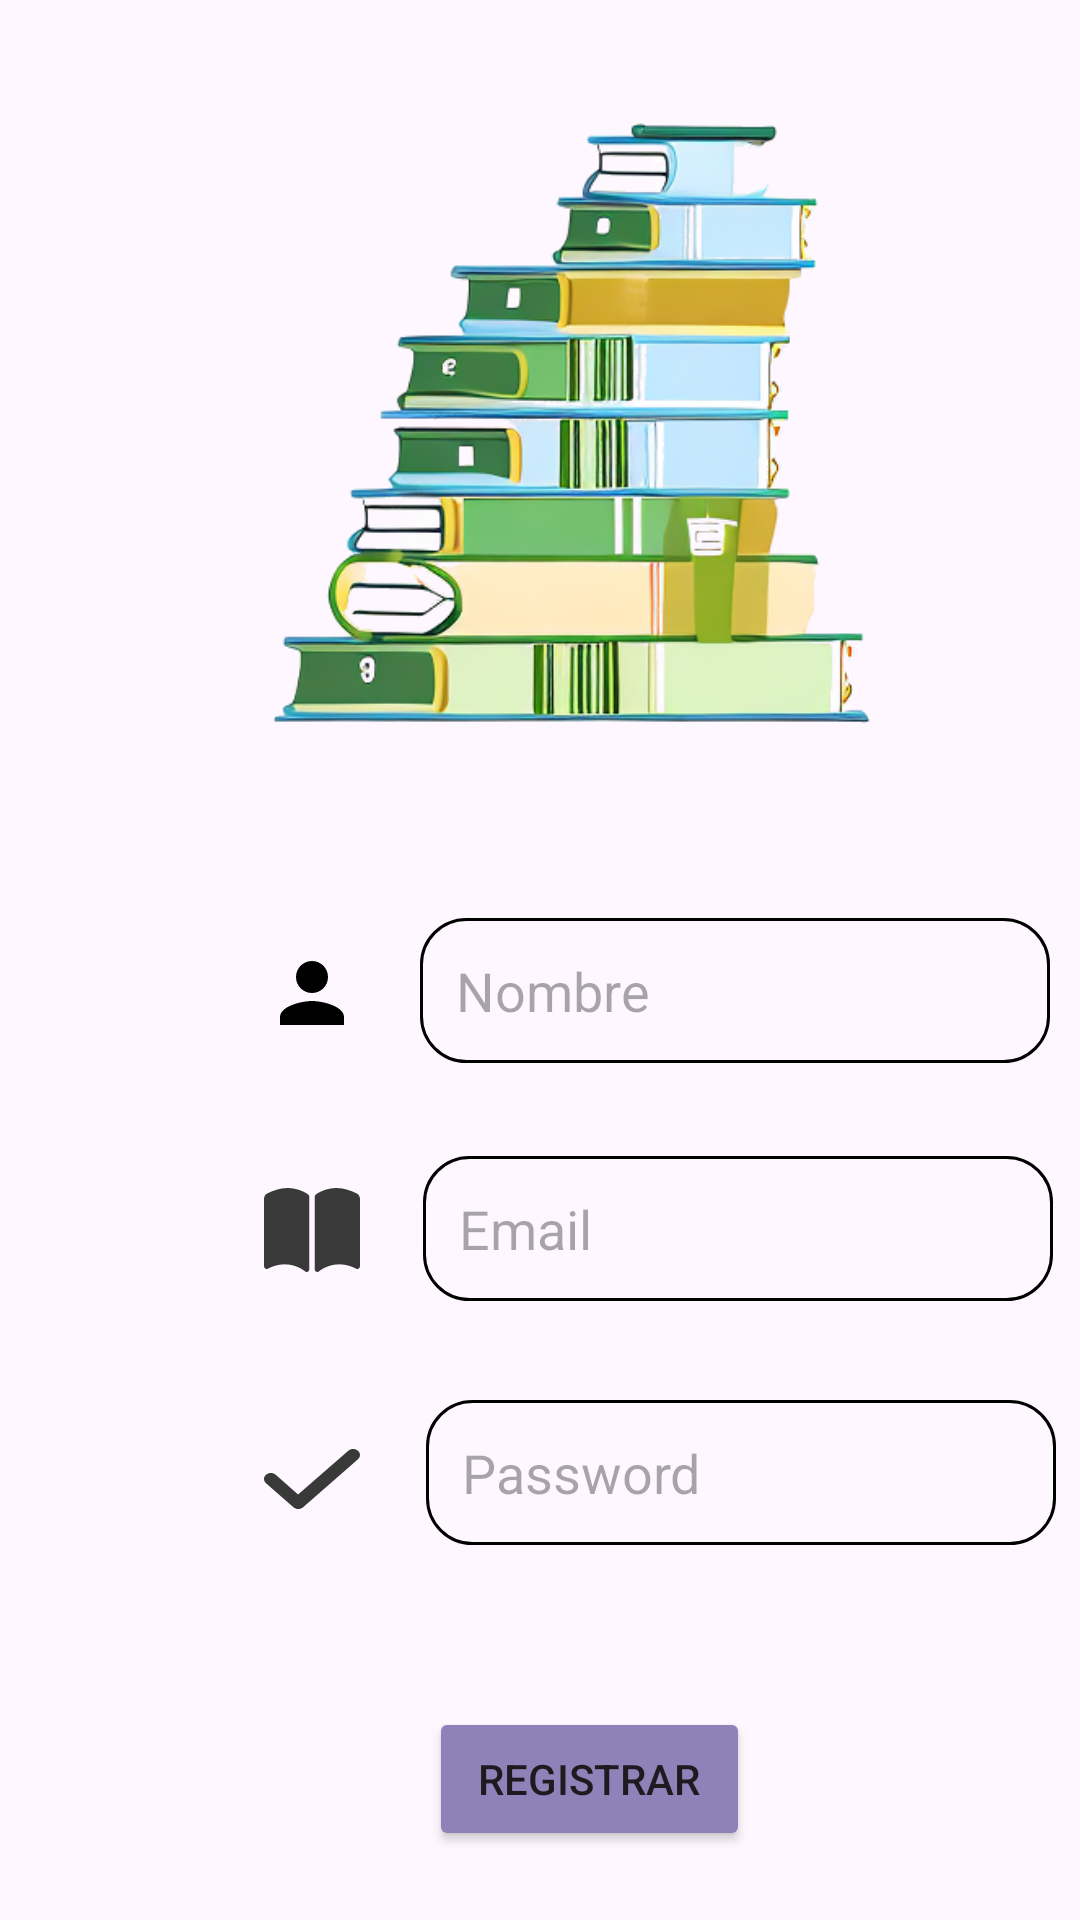

Icons on this 1080×1920 Android screen, each with the point to tap as (x=x, y=y):
user: (x=312, y=993)
